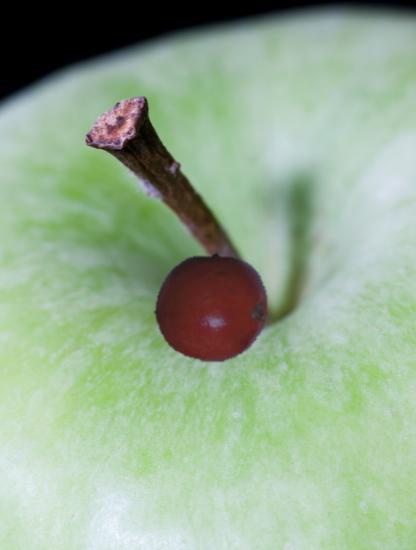Pomegranate: (152, 249, 269, 366)
